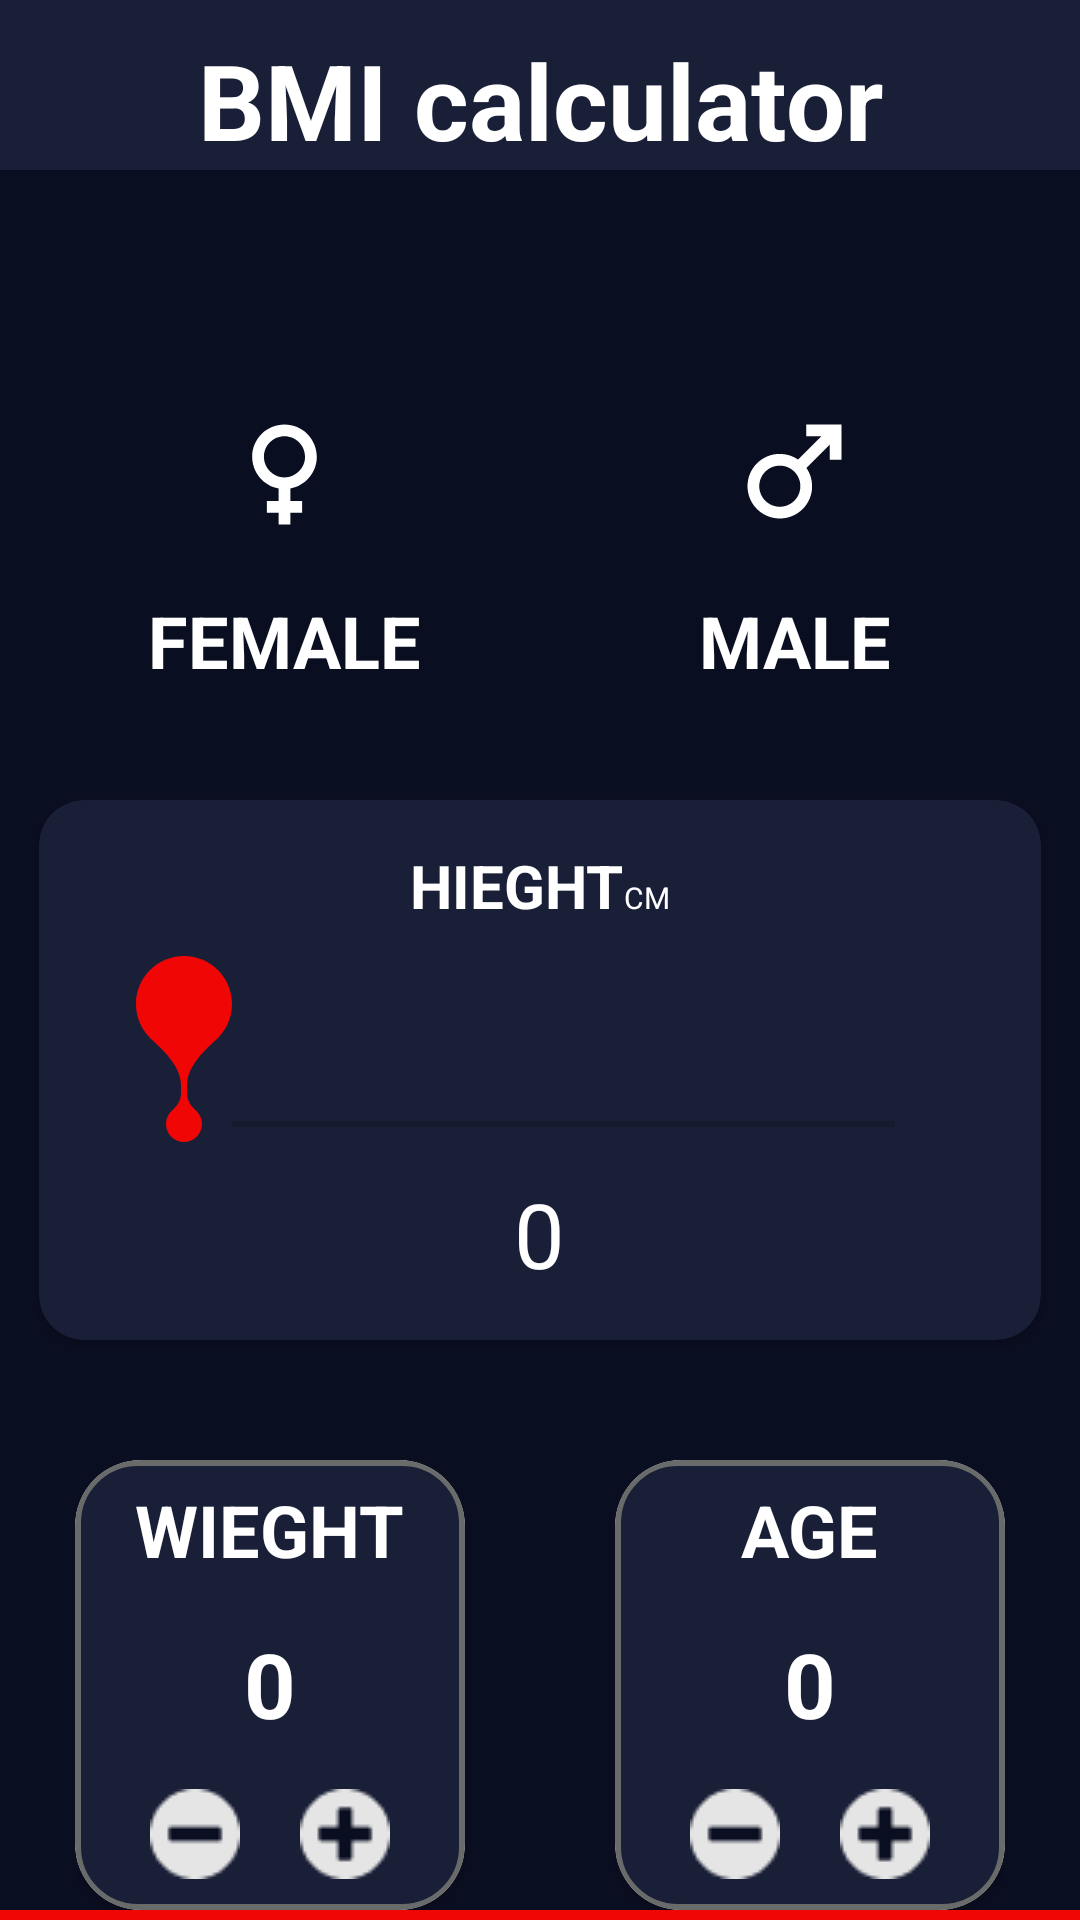

Where to tap for icons on this 1080px x 1920px app screen, as (x=x, y=y):
plus: (x=345, y=1834), (x=885, y=1834)
